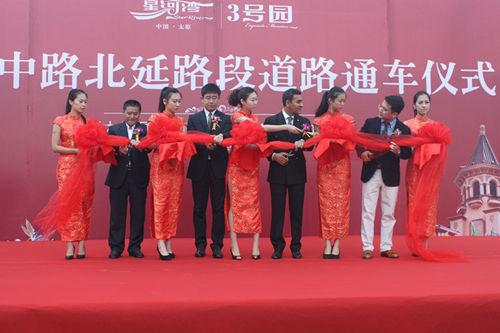boots: (128, 248, 144, 258), (229, 248, 242, 260), (381, 250, 399, 258), (65, 245, 75, 259), (109, 250, 121, 258), (363, 249, 373, 258), (195, 247, 205, 256), (272, 249, 282, 258), (292, 250, 302, 258), (213, 250, 223, 257)
person: (22, 88, 127, 260), (213, 86, 305, 260), (134, 85, 199, 261), (299, 85, 360, 259), (400, 91, 462, 261), (355, 95, 412, 259), (262, 87, 313, 259), (186, 82, 232, 258), (104, 99, 152, 259)
